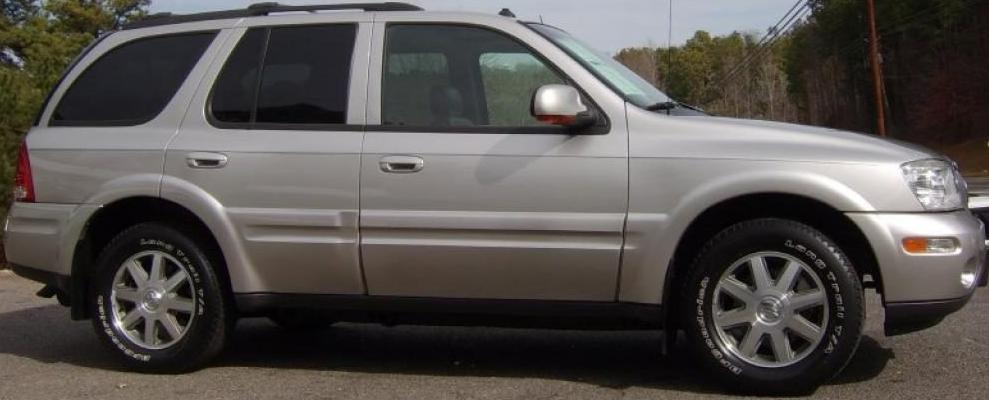headlight: (893, 152, 976, 218)
side_glass: (37, 19, 616, 135)
